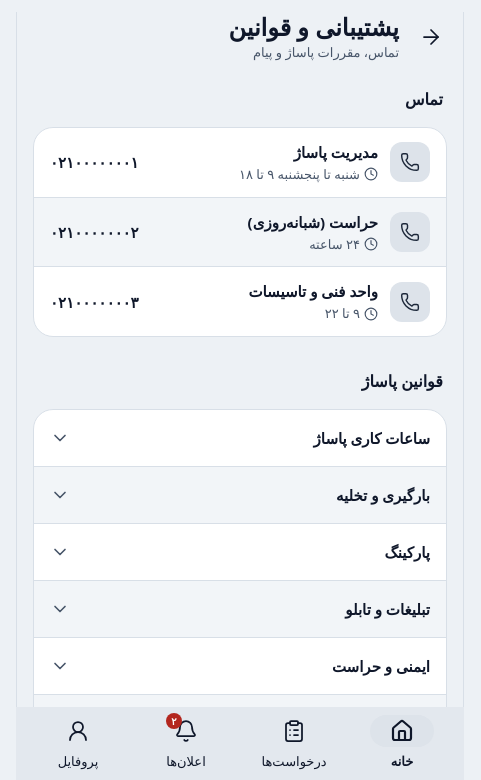
it: forms › support: rules accordion and phone numbers
The width and height of the screenshot is (481, 780).
Click the button "پارکینگ": (407, 552) [34,524,446,580]
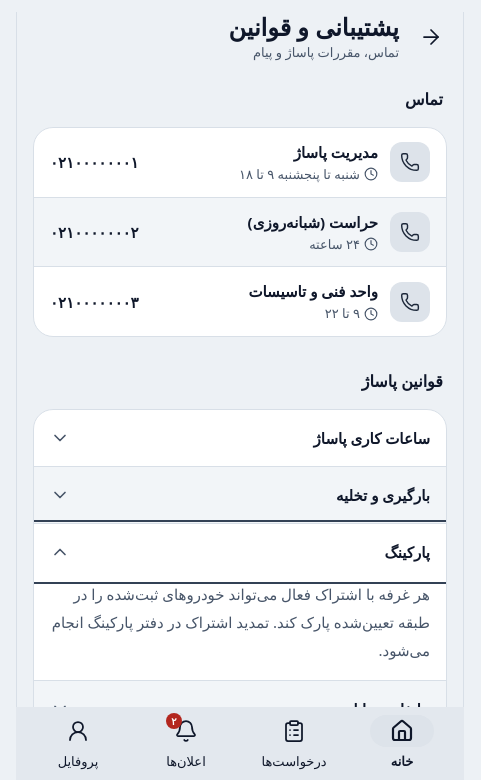
Result: the button "پارکینگ" is expanded at [34,524,446,580]
Result: the text "تمدید اشتراک در دفتر پارکینگ" is shown at [52,584,430,660]
